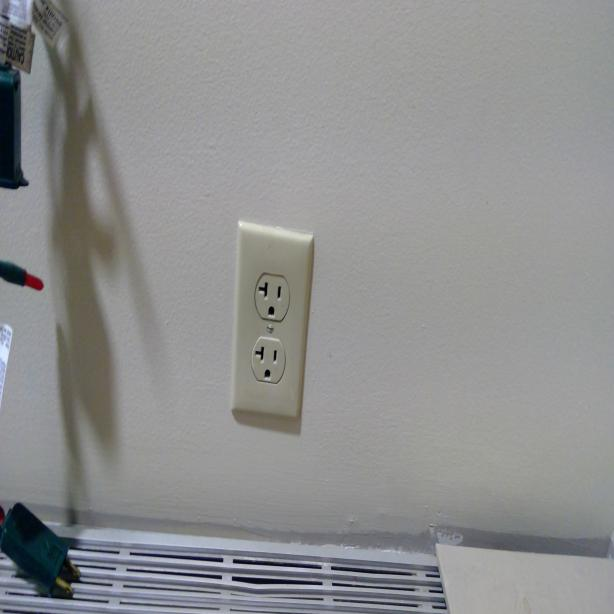typeb: (255, 266, 291, 322), (250, 332, 285, 384)
